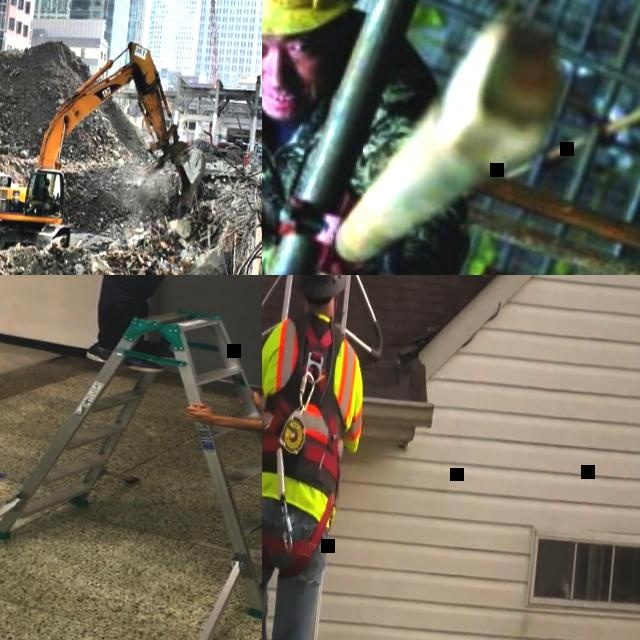Hardhat: (294, 275, 351, 301)
NO-Hardhat: (45, 177, 51, 183)
NO-Mask: (262, 47, 338, 124)
NO-Safety Vest: (262, 32, 396, 273)
Person: (262, 0, 501, 275), (262, 275, 378, 640), (167, 324, 262, 624), (70, 275, 262, 378), (42, 175, 55, 199)
Safety Vest: (262, 313, 370, 496)
machinery: (0, 21, 215, 275)
